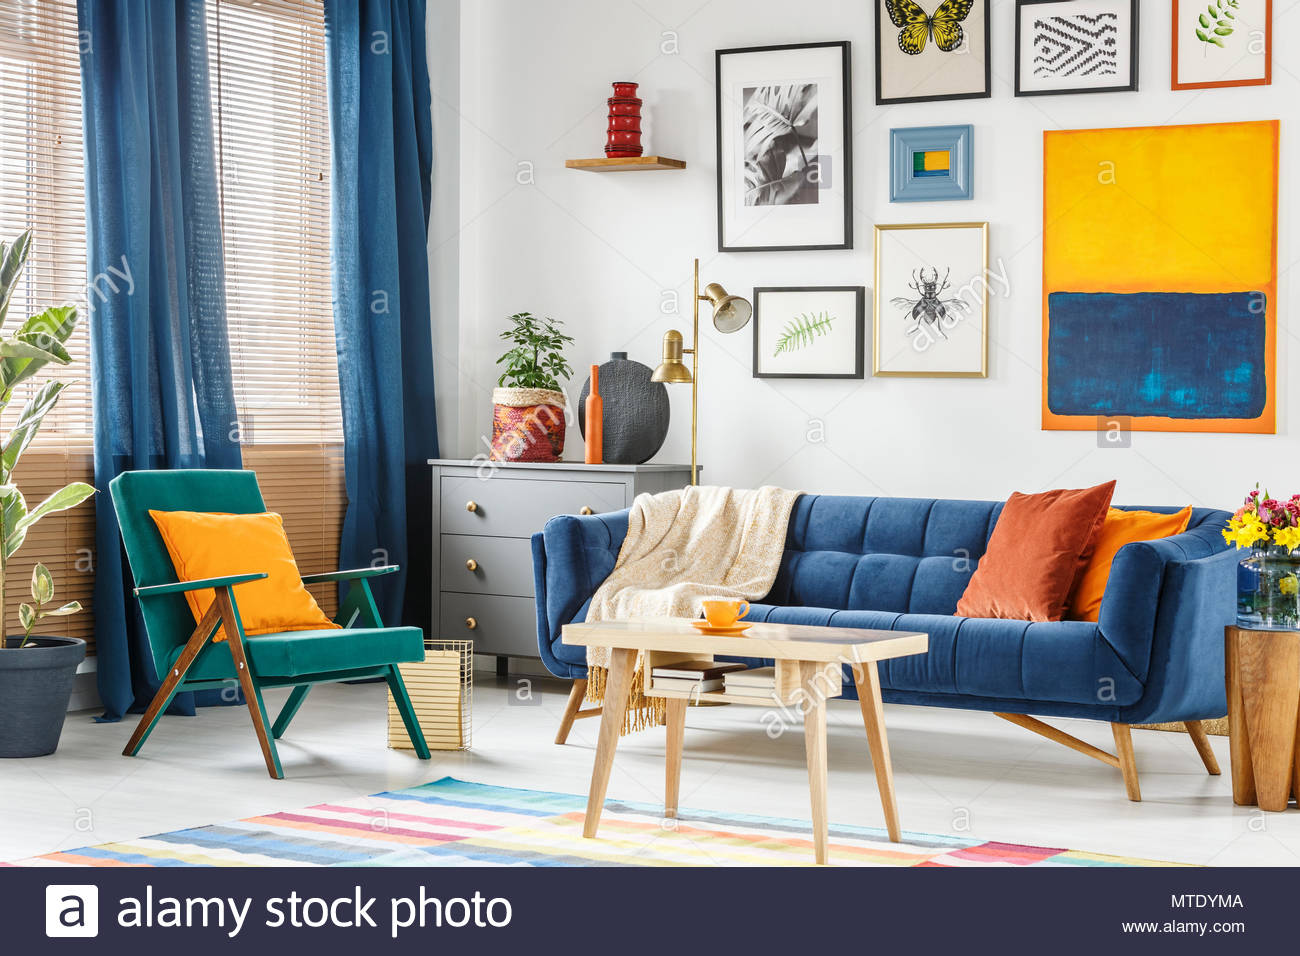biru: (789, 489, 1227, 713)
hijau: (109, 471, 428, 665)
orange: (152, 507, 327, 625), (970, 486, 1111, 619), (1101, 509, 1184, 539), (582, 366, 606, 463), (698, 596, 745, 632)
